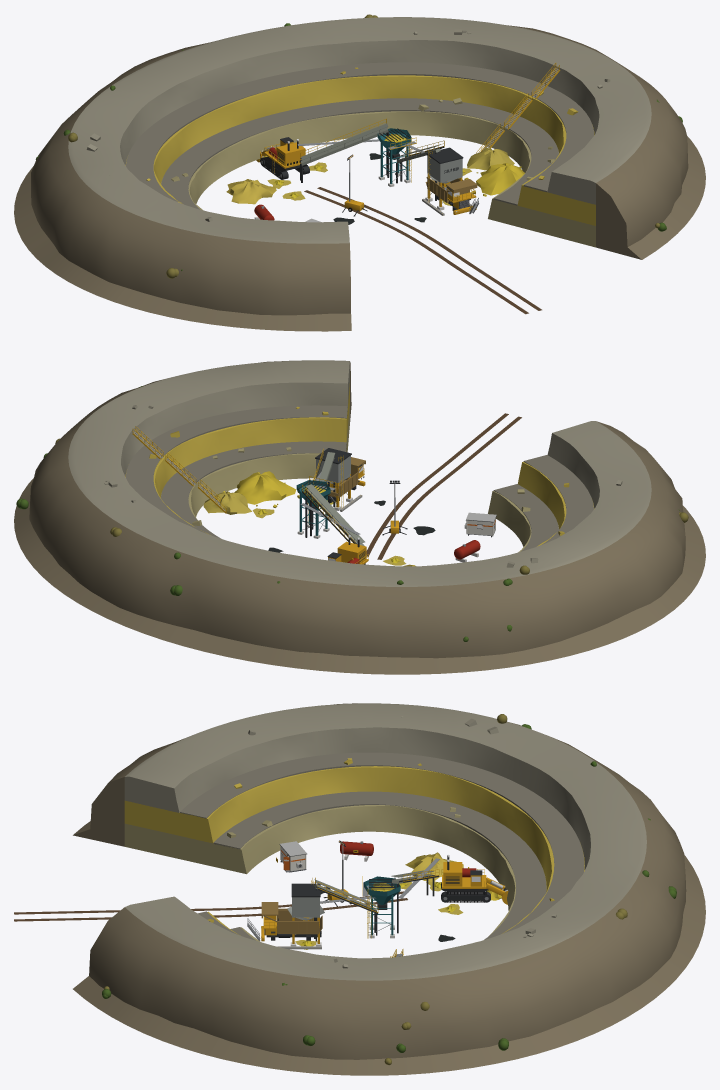
File: strip-mine-sulphur.glb
The picture shows the model from 3 angles, top to bottom: view 1: azimuth 30°, elevation 25°; view 2: azimuth 150°, elevation 25°; view 3: azimuth 270°, elevation 25°; orthographic projection. The views are drawn at different scales.
Parts seen in each view (by area): view 1: C0_0_lod0, C0_-1_lod0, C-1_0_lod0; view 2: C0_0_lod0, C0_-1_lod0, C-1_0_lod0, C-1_-1_lod0; view 3: C0_0_lod0, C0_-1_lod0, C-1_0_lod0, C-1_-1_lod0.
Boxes of the visible parts, x1,y1,x2,y2 form: C0_0_lod0: [14, 17, 705, 331]; C0_-1_lod0: [422, 141, 666, 231]; C-1_0_lod0: [146, 137, 366, 220]; C0_0_lod0: [14, 360, 705, 674]; C0_-1_lod0: [212, 406, 365, 511]; C-1_0_lod0: [327, 480, 564, 564]; C-1_-1_lod0: [399, 483, 569, 537]; C0_0_lod0: [14, 703, 705, 1075]; C0_-1_lod0: [102, 877, 326, 998]; C-1_0_lod0: [327, 758, 508, 906]; C-1_-1_lod0: [227, 783, 329, 900].
Size of what is drawn, in the model's own units: 122 by 14.58 by 109.
